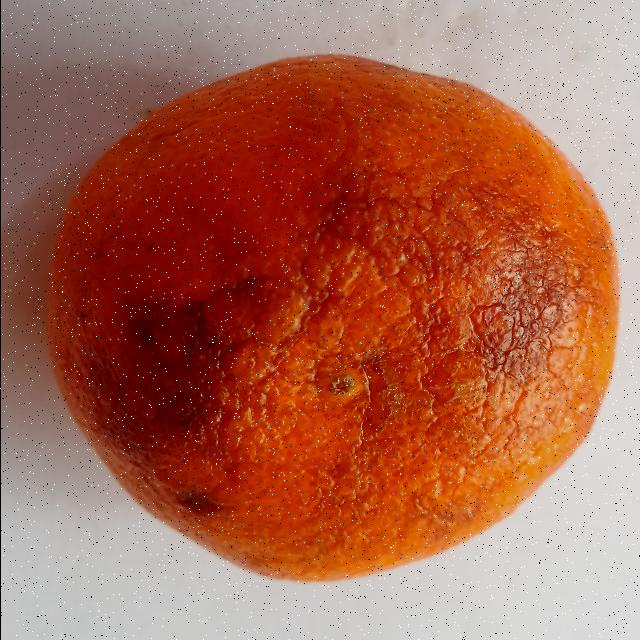overripe: (42, 48, 621, 586)
